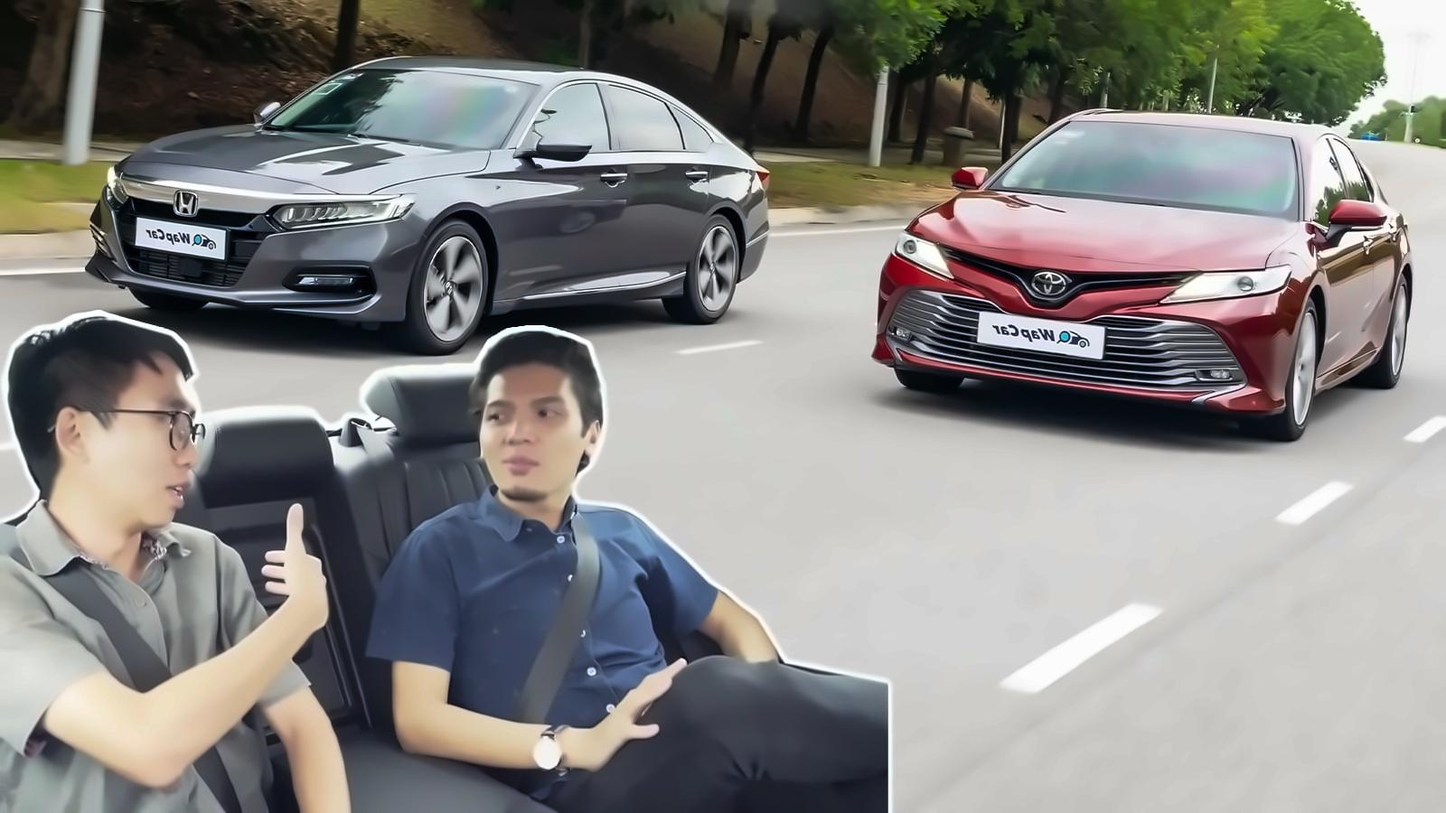Car hood: (112, 118, 495, 215), (906, 185, 1309, 277)
Fender - -F-L-: (375, 142, 517, 316), (1266, 218, 1329, 396)
Fender - -R-L-: (689, 148, 754, 280)
Front bumper: (866, 295, 1328, 428), (69, 206, 428, 330)
Headlight - -L-: (259, 185, 420, 241), (1157, 255, 1296, 310)
Headlight - -R-: (877, 217, 964, 282), (94, 148, 134, 203)
Passenger-s door - -F-L-: (514, 69, 624, 292), (1323, 137, 1373, 379)
Passenger-s door - -R-L-: (624, 64, 714, 286), (1347, 135, 1415, 377)
Rear bumper: (734, 228, 773, 286)
Rear light - -L-: (743, 154, 776, 192)
Side bumper - -L-: (487, 270, 696, 325), (1305, 342, 1395, 403)
Side mirror - -L-: (518, 122, 603, 178), (1317, 196, 1393, 240)
Side mirror - -R-: (232, 89, 298, 139), (936, 149, 1002, 196)
